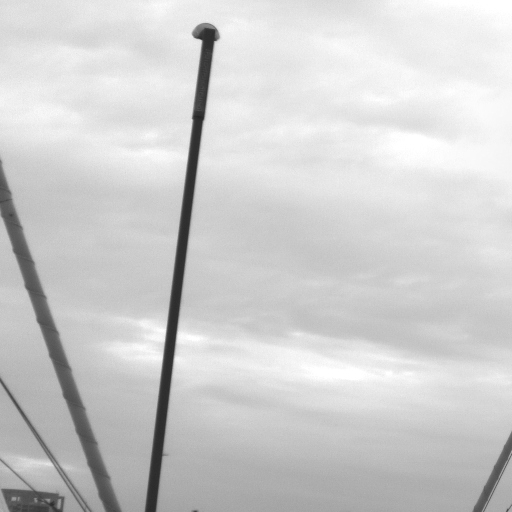uav: (163, 452, 170, 456)
